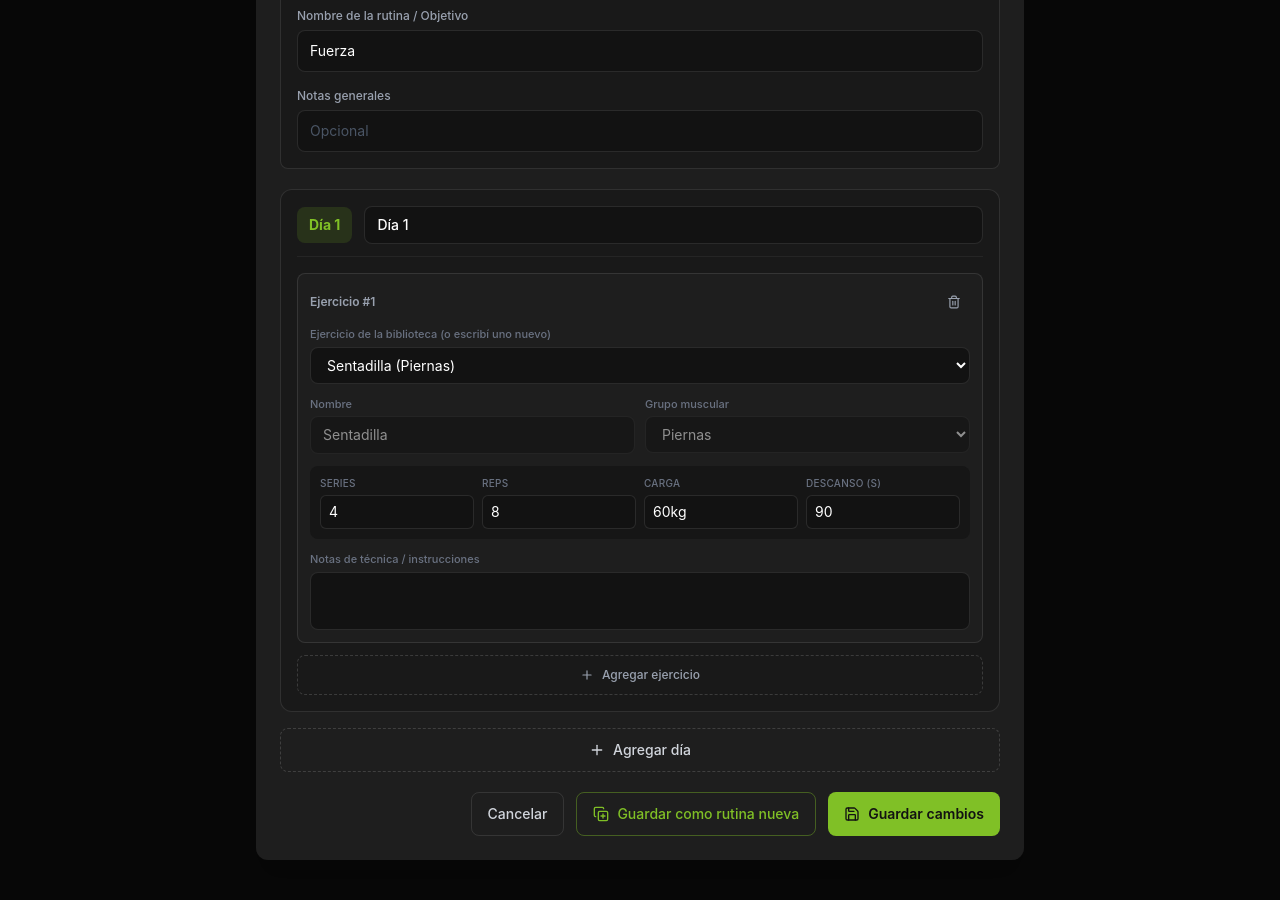
Test: RutinaEditorModal -- guardar sin perder el historial › si el servidor la rechaza (rutina del historial), muestra su mensaje y no cierra
(page scrolled)
Click the button "Guardar cambios".
click(914, 814)  # box [828,792,1000,836]
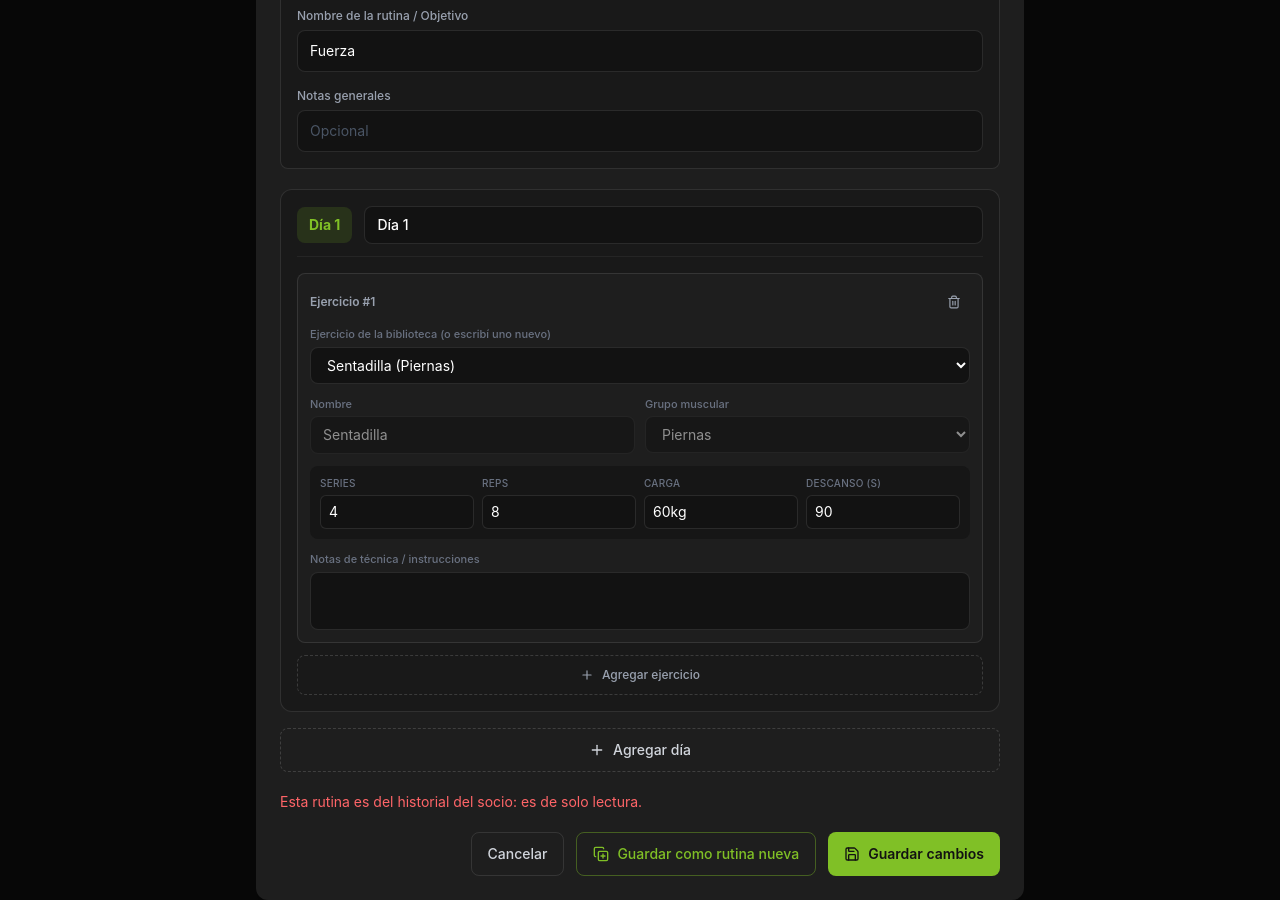
Result: the text "Esta rutina es del historial del socio: es de solo lectura." is shown at [280,792,642,810]
